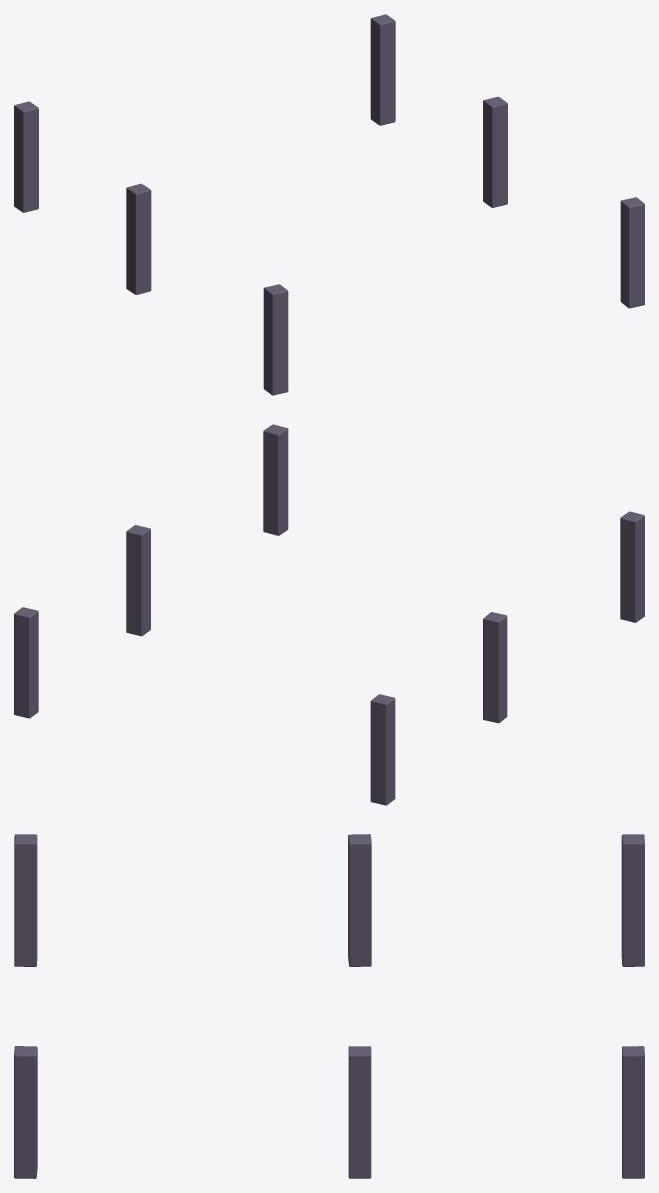
The model's file is Pillars_Stone.fbx.
The picture shows the model from 3 angles, top to bottom: view 1: azimuth 30°, elevation 25°; view 2: azimuth 150°, elevation 25°; view 3: azimuth 270°, elevation 25°; orthographic projection. The views are drawn at different scales.
Visible parts, largest first — view 1: Pillar-66_36.001; view 2: Pillar-66_36.001; view 3: Pillar-66_36.001.
Part boxes in pixels (<box>): Pillar-66_36.001: <box>14,14,644,395</box>; Pillar-66_36.001: <box>14,424,644,805</box>; Pillar-66_36.001: <box>14,834,644,1178</box>.
Size of the model in its own units: 13822 by 3600 by 16616.
